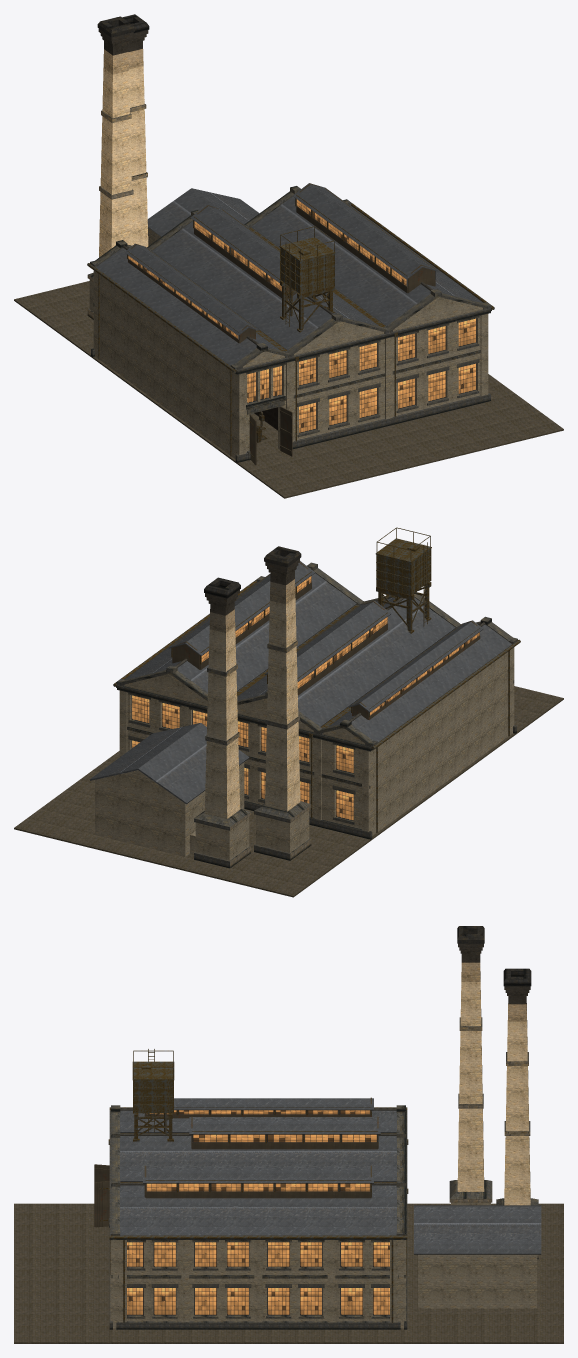
The model's file is no-2-flat-out-factory.glb.
The picture shows the model from 3 angles, top to bottom: view 1: azimuth 30°, elevation 25°; view 2: azimuth 150°, elevation 25°; view 3: azimuth 270°, elevation 25°; orthographic projection.
Visible parts, largest first — view 1: no-2-mill-roof, no-2-mill-walls, no-2-yard-setts, no-2-mill-stonework, no-2-chimney-a, no-2-chimney-b, no-2-mill-ironwork, no-2-mill-timber, no-2-water-tank, no-2-boiler-house-building, no-2-tank-trestle; view 2: no-2-mill-roof, no-2-mill-walls, no-2-yard-setts, no-2-boiler-house-building, no-2-chimney-a, no-2-chimney-b, no-2-mill-stonework, no-2-mill-ironwork, no-2-water-tank, no-2-mill-timber, no-2-tank-trestle, no-2-window-back-ground-01 (+1 smaller); view 3: no-2-mill-roof, no-2-yard-setts, no-2-boiler-house-building, no-2-mill-walls, no-2-mill-stonework, no-2-chimney-a, no-2-chimney-b, no-2-mill-timber, no-2-mill-ironwork, no-2-water-tank, no-2-tank-trestle, no-2-loading-door-right (+12 smaller).
Boxes of the visible parts, x1,y1,x2,y2 form: no-2-mill-roof: (96, 183, 483, 365); no-2-mill-walls: (93, 270, 488, 458); no-2-yard-setts: (14, 281, 563, 498); no-2-mill-stonework: (90, 186, 491, 462); no-2-chimney-a: (87, 16, 134, 319); no-2-chimney-b: (122, 14, 149, 247); no-2-mill-ironwork: (87, 188, 494, 456); no-2-mill-timber: (128, 183, 435, 343); no-2-water-tank: (279, 237, 335, 294); no-2-boiler-house-building: (147, 188, 259, 245); no-2-tank-trestle: (280, 226, 335, 332); no-2-mill-roof: (124, 561, 511, 742); no-2-mill-walls: (119, 647, 514, 835); no-2-yard-setts: (14, 686, 563, 897); no-2-boiler-house-building: (89, 723, 249, 856); no-2-chimney-a: (254, 546, 311, 860); no-2-chimney-b: (194, 577, 250, 868); no-2-mill-stonework: (116, 562, 517, 839); no-2-mill-ironwork: (113, 571, 520, 832); no-2-water-tank: (375, 538, 431, 595); no-2-mill-timber: (172, 562, 480, 719); no-2-tank-trestle: (376, 527, 431, 633); no-2-window-back-ground-01: (336, 790, 353, 820); no-2-mill-roof: (120, 1098, 396, 1235); no-2-yard-setts: (14, 1203, 563, 1343); no-2-boiler-house-building: (414, 1205, 541, 1308); no-2-mill-walls: (110, 1239, 406, 1328); no-2-mill-stonework: (109, 1105, 407, 1329); no-2-chimney-a: (449, 926, 492, 1205); no-2-chimney-b: (496, 968, 538, 1259); no-2-mill-timber: (144, 1097, 378, 1198); no-2-mill-ironwork: (108, 1107, 408, 1322); no-2-water-tank: (132, 1061, 174, 1113); no-2-tank-trestle: (133, 1049, 173, 1141); no-2-loading-door-right: (94, 1181, 109, 1227).
Bounding box in the file's own units: 25.05 × 25.1 × 41.4.
Materials: 28 (24 with a texture image).
